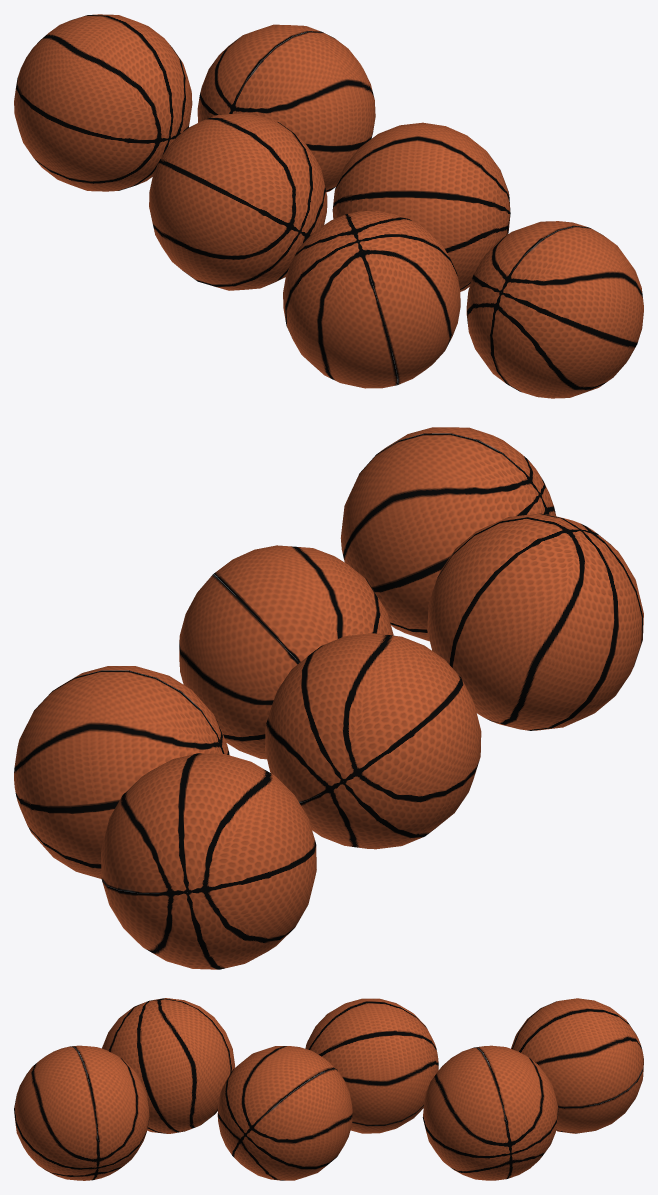
Rendered from SportBall01_07.FBX.
The picture shows the model from 3 angles, top to bottom: view 1: azimuth 30°, elevation 25°; view 2: azimuth 150°, elevation 25°; view 3: azimuth 270°, elevation 25°; orthographic projection. The views are drawn at different scales.
Visible parts, largest first — view 1: SportBalls07_LOD0; view 2: SportBalls07_LOD0; view 3: SportBalls07_LOD0.
Part boxes in pixels (bbox=[...]): SportBalls07_LOD0: bbox=[14, 14, 643, 398]; SportBalls07_LOD0: bbox=[14, 427, 643, 969]; SportBalls07_LOD0: bbox=[14, 998, 643, 1180].
Size of what is drawn, in the model's own units: 600 by 329 by 1528.
